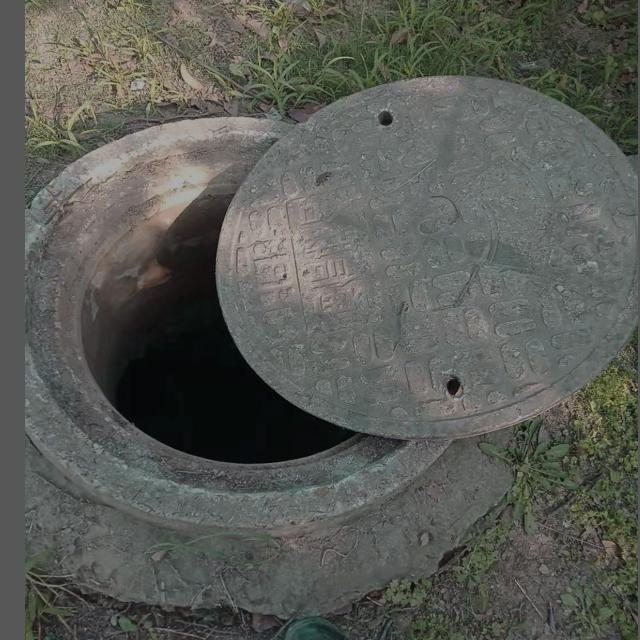uncovered: (25, 72, 632, 532)
